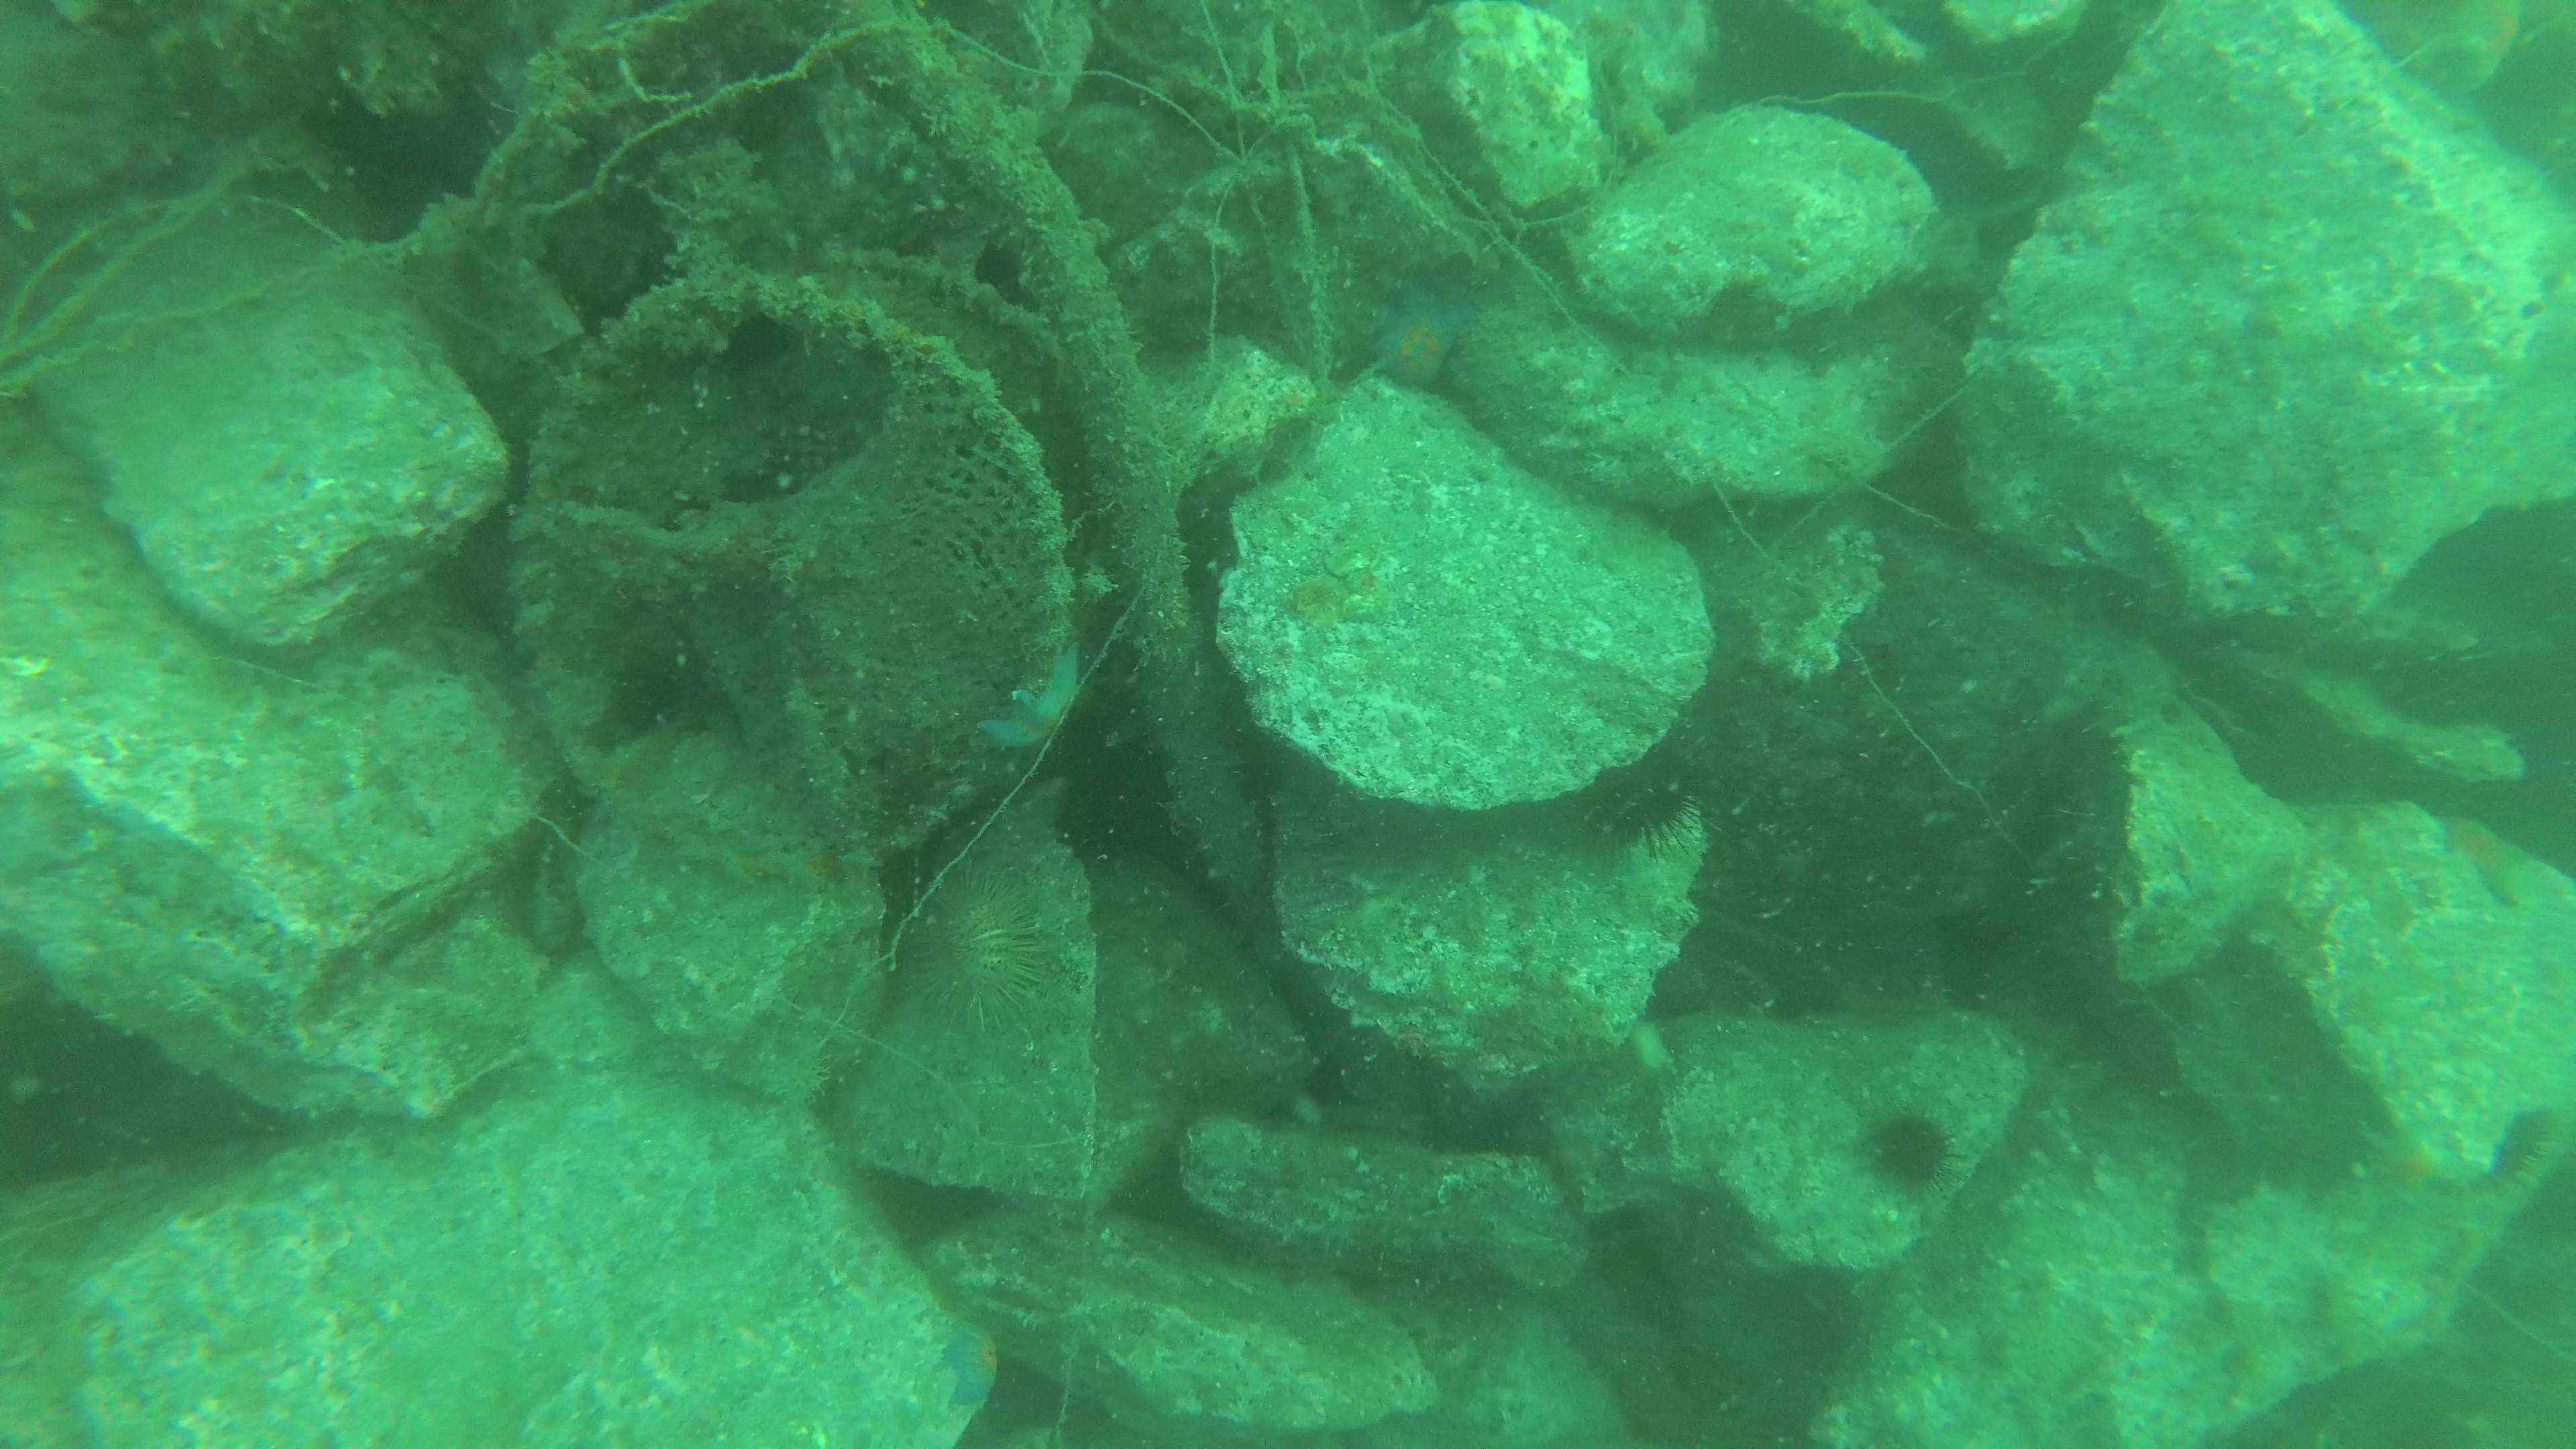echinus: (902, 863, 1056, 1047), (1576, 757, 1697, 851), (1852, 1100, 1955, 1194)
starfish: (977, 633, 1092, 768), (2408, 0, 2537, 106), (2339, 1109, 2470, 1210), (2419, 800, 2532, 904), (1353, 297, 1479, 387), (934, 1311, 1012, 1410)
